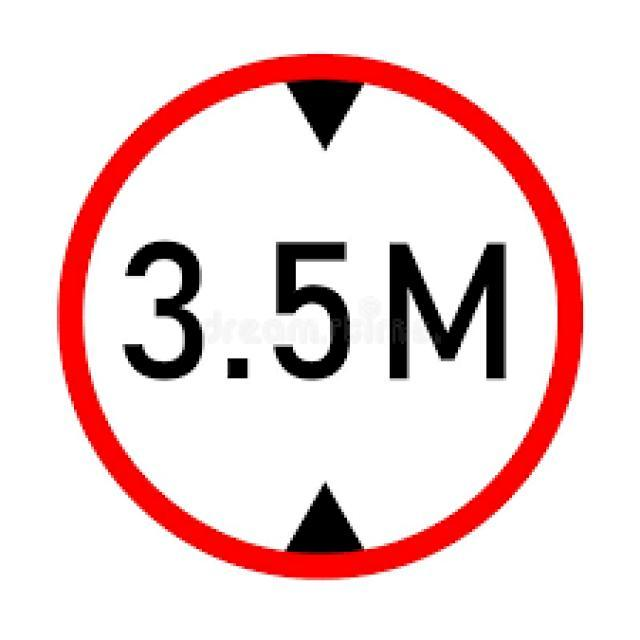height limit: (52, 51, 591, 588)
